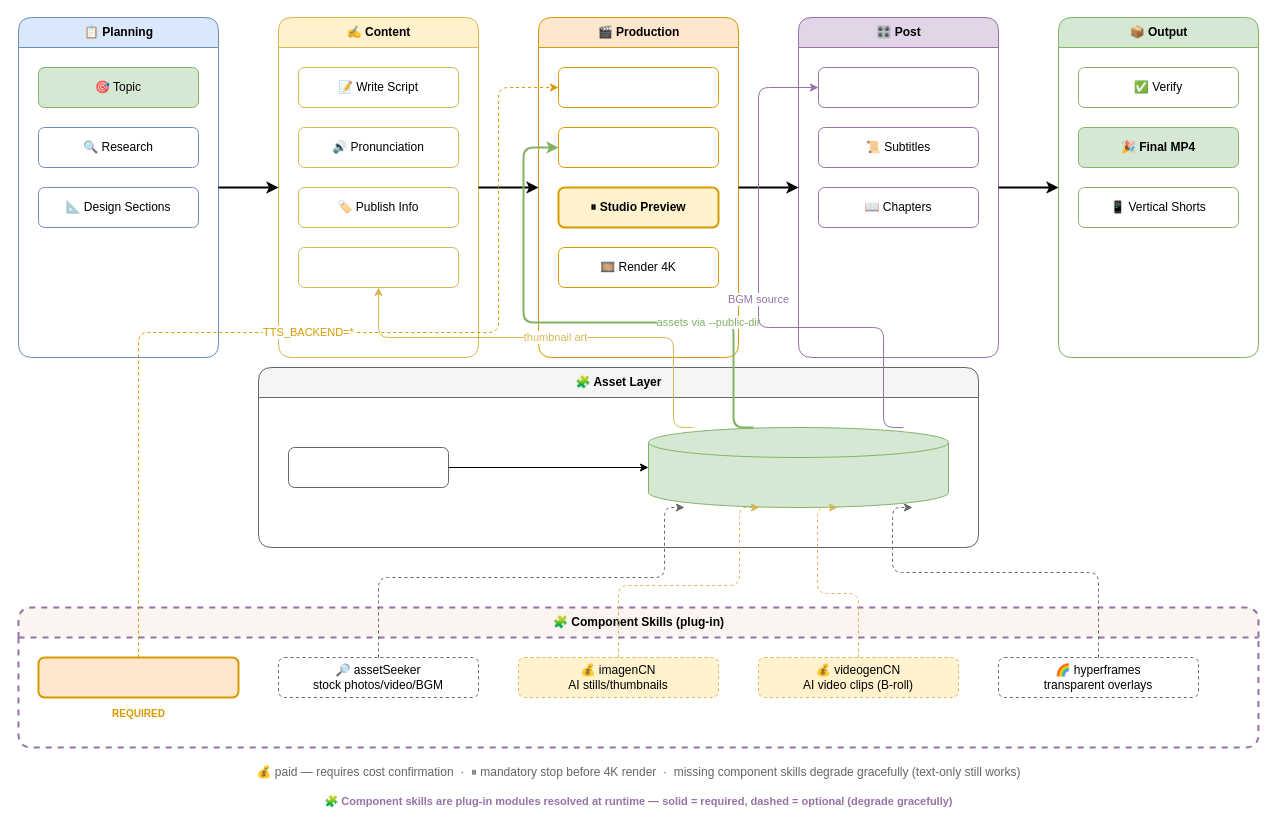
The diagram is 1276 pixels wide and 831 high, and some of its shapes have lost their labels. The centre of each missing label's shape, as x and y in pixels:
"⚛️ Remotion Composition" goes at pixel 638 147.
"🎙️ TTS Audio" goes at pixel 638 87.
"🎙️ ttsCN TTS engine, 11 platforms" goes at pixel 138 677.
"🎵 Mix BGM" goes at pixel 898 87.
"📁 User Files" goes at pixel 368 467.
"🖼️ Thumbnail" goes at pixel 378 267.
"🗂️ assets/manifest.json role · source · license · status" goes at pixel 798 467.
